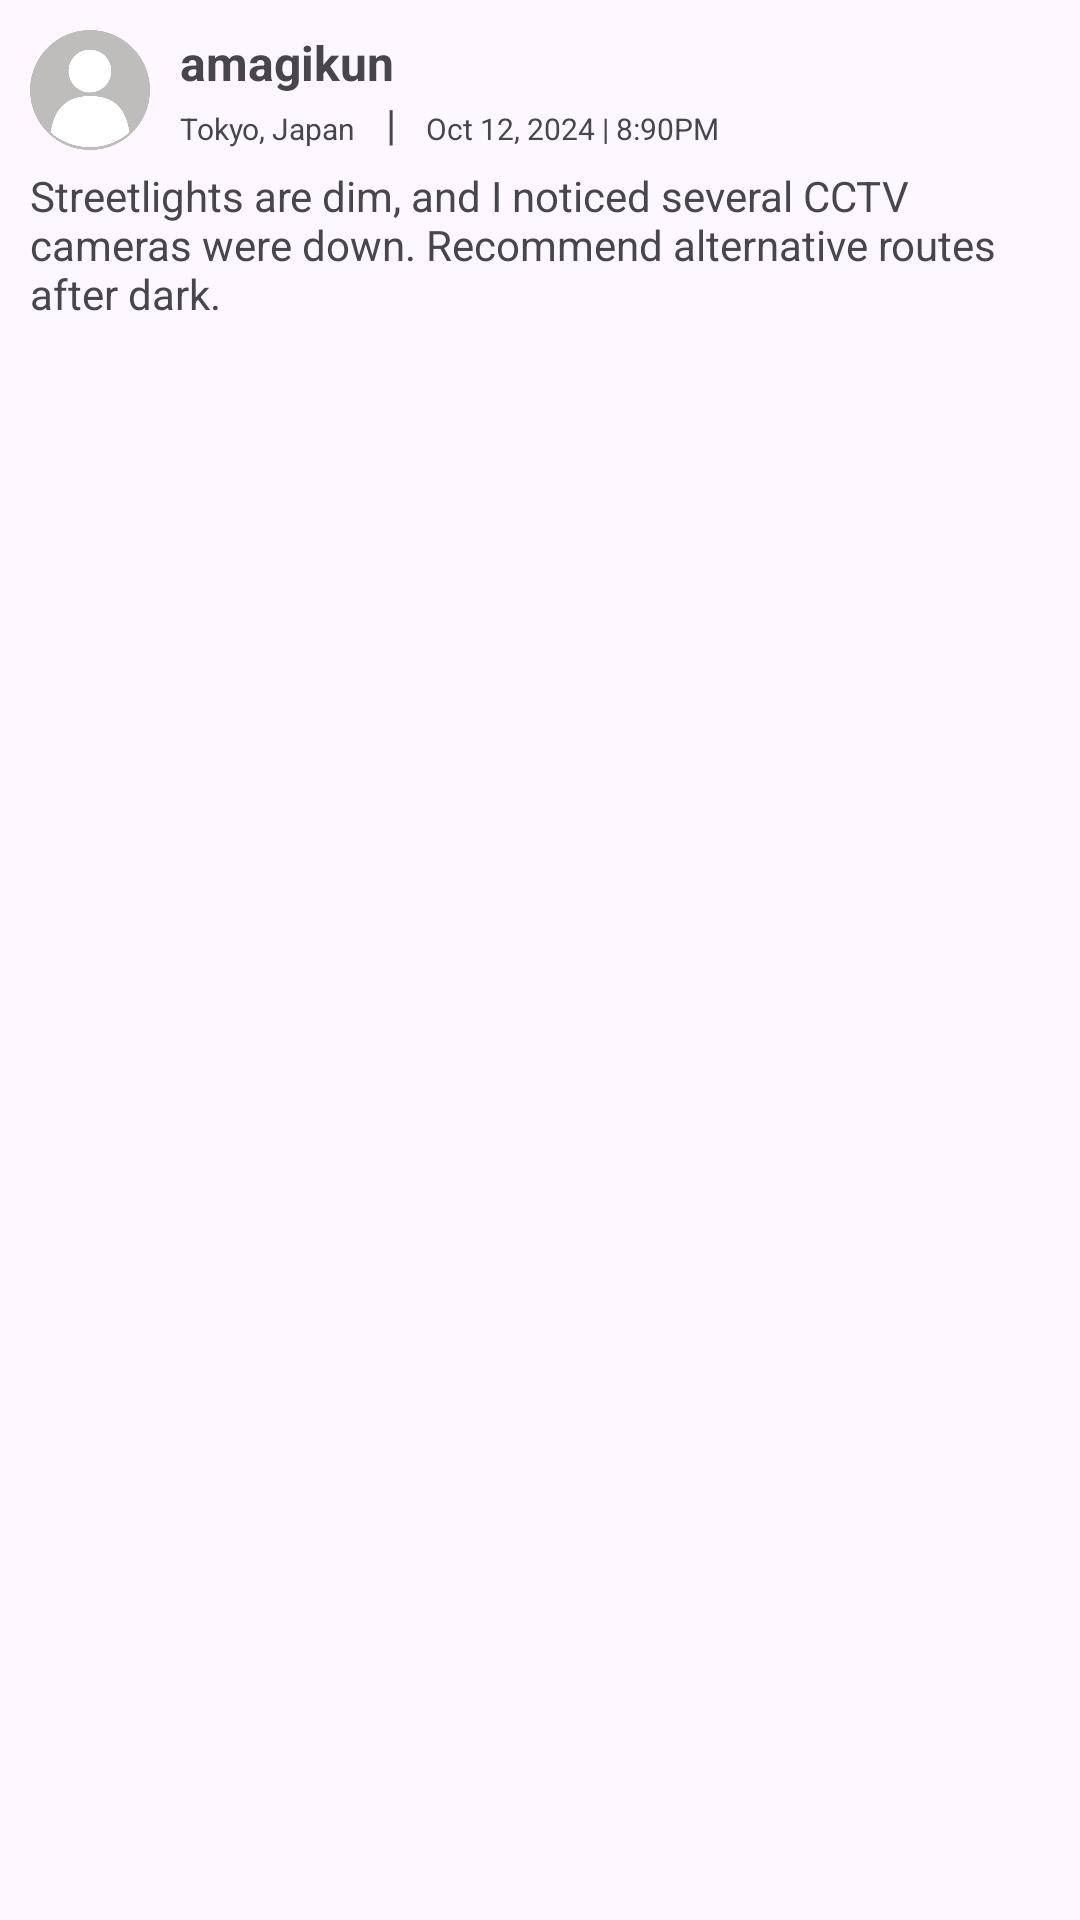

Named icons in this screenshot (1080×1920) and their bounding boxes, (x1, y1, x2, y2):
deafultprofile: (30, 30, 150, 150)
